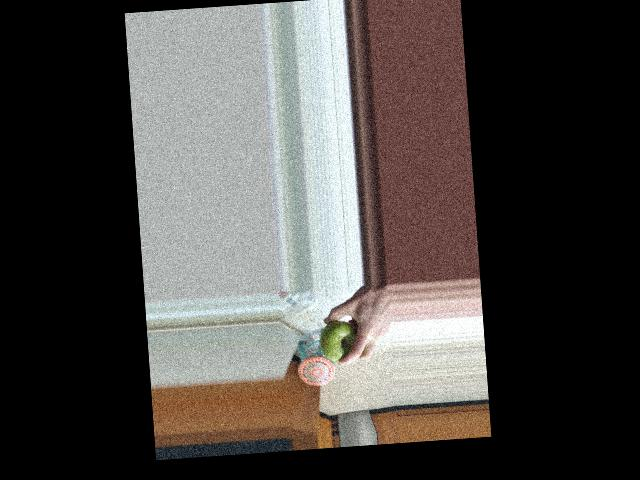apple: (317, 317, 363, 365)
